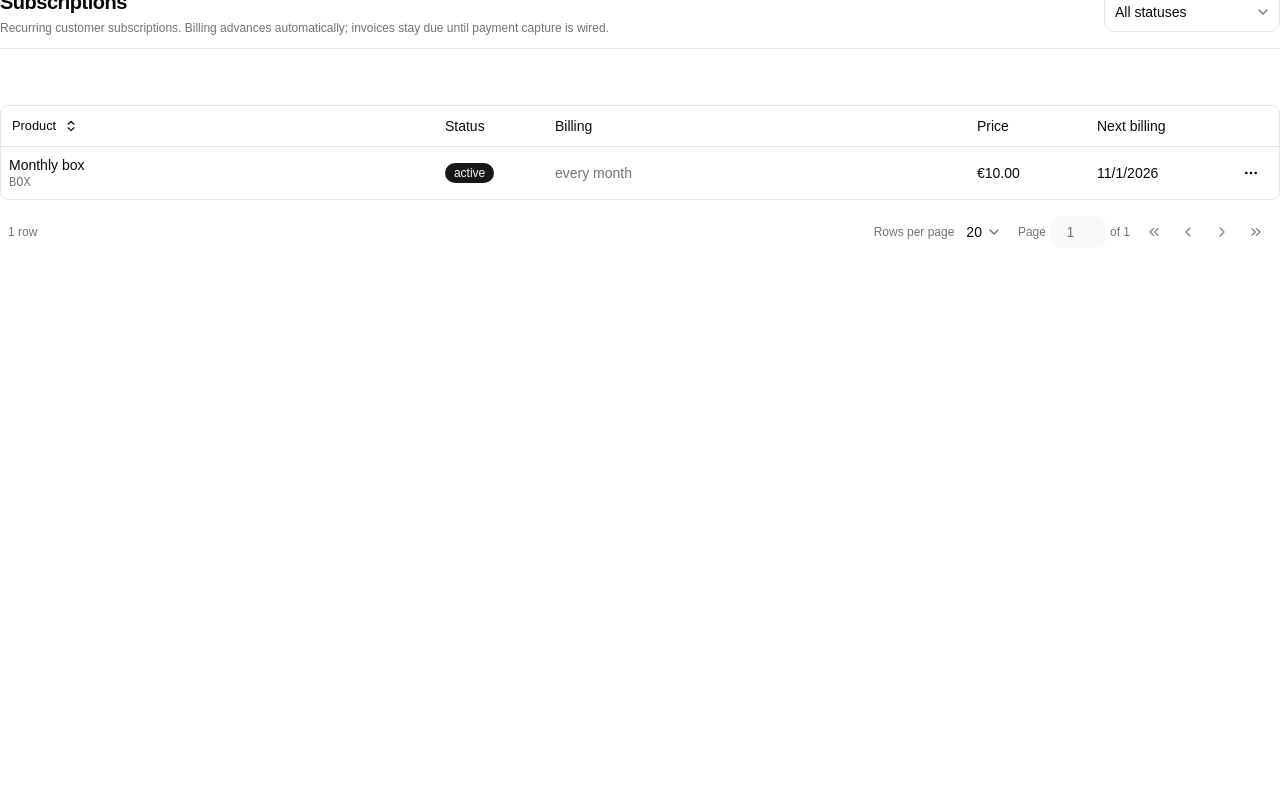
SubscriptionsList cancel › closes at once and reports a refused cancel on the page
Press the mouse on the button named "Subscription actions" at (1251, 172), box [1237,158,1265,186]
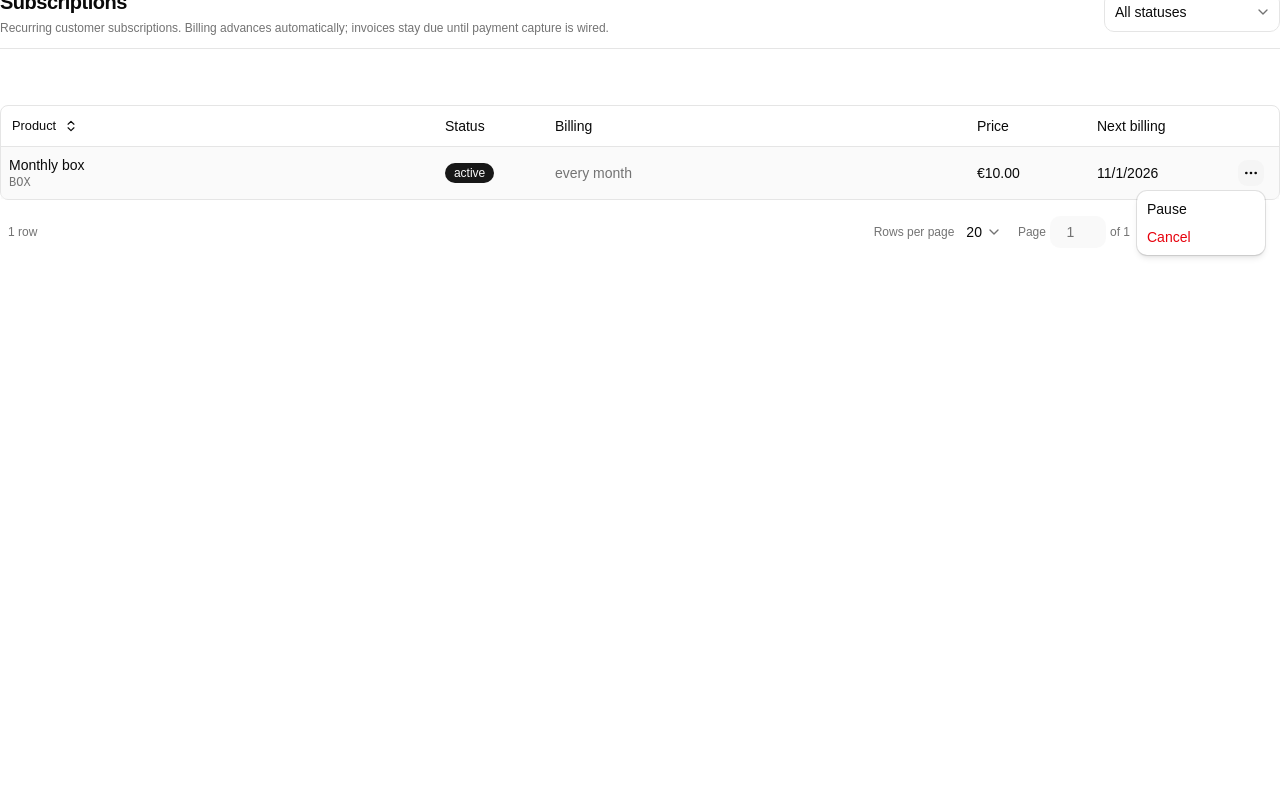
Click the menu item "Cancel" at (1169, 237), box [1147,229,1191,245]
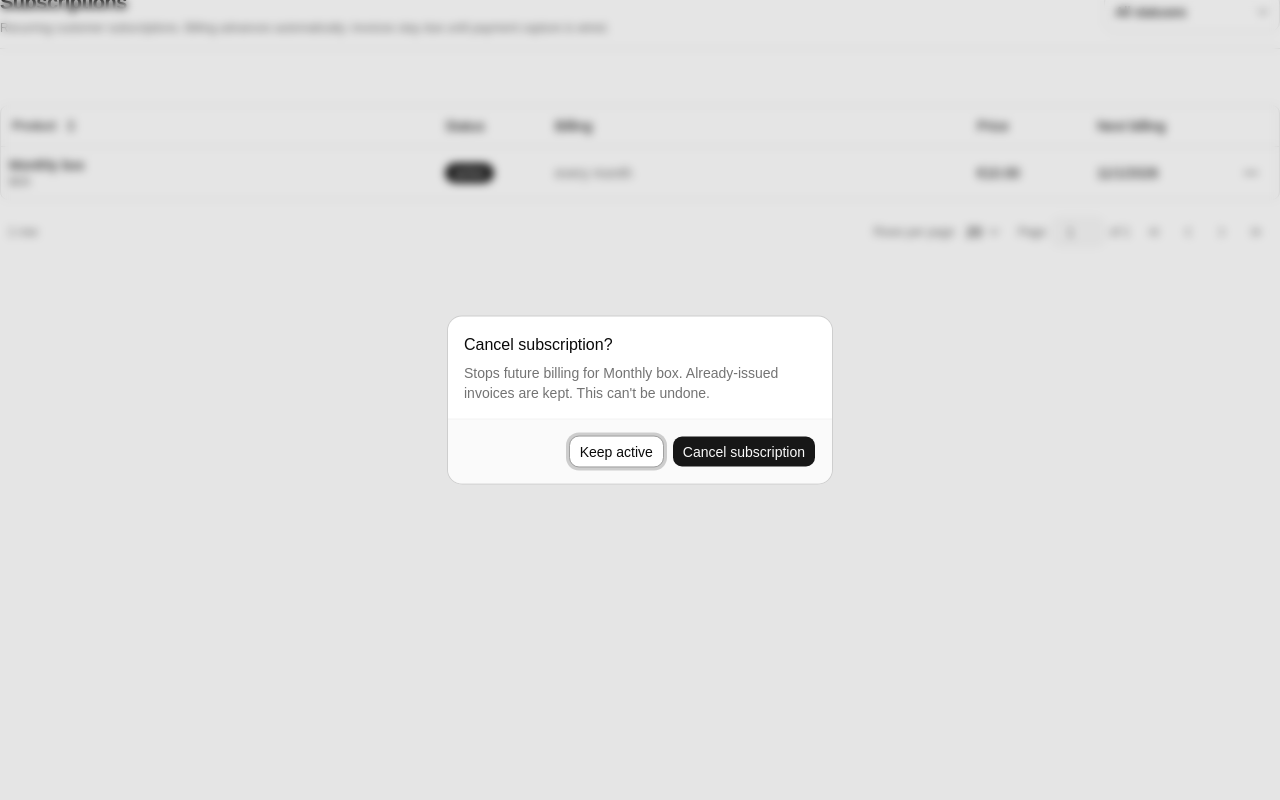
expect the button "Keep active" is shown: met, box [569,436,664,468]
Click the button "Cancel subscription" at (744, 452), box [672,436,816,468]
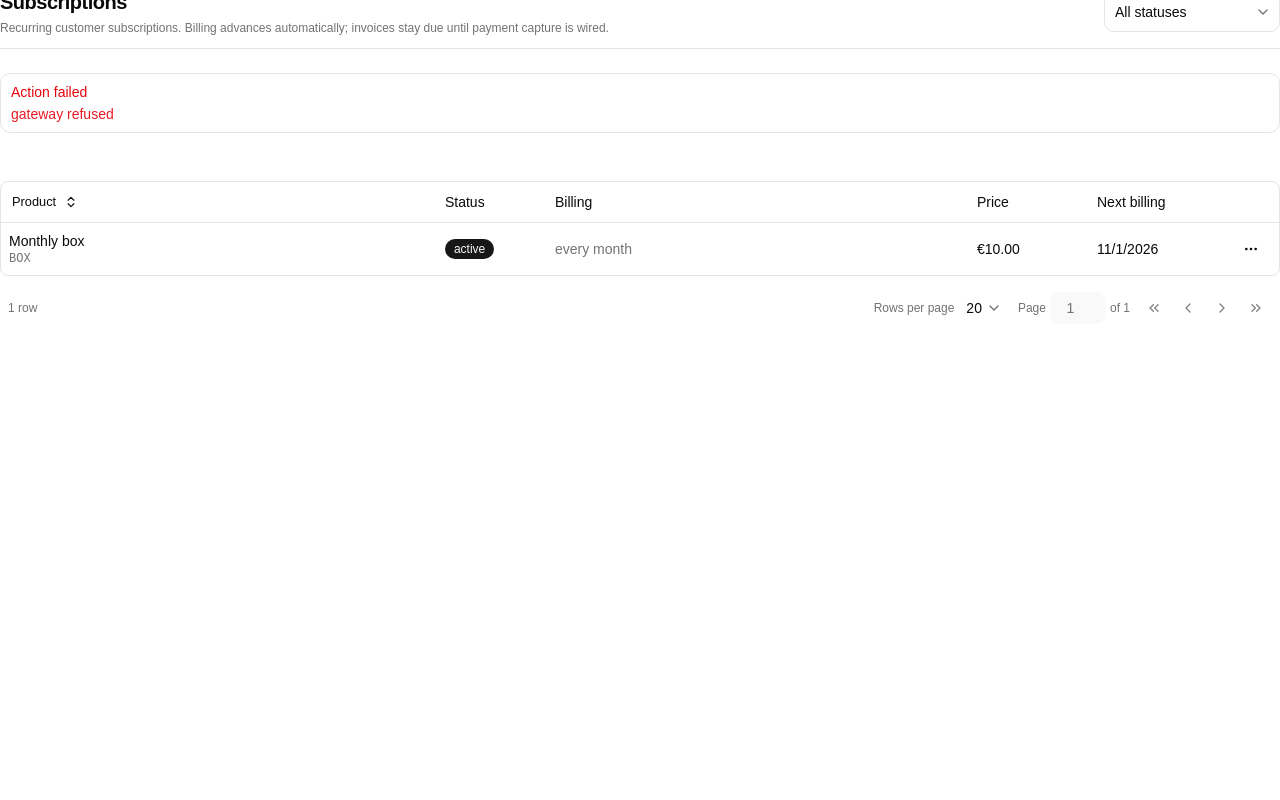
expect the dialog is gone: met
expect the text "gateway refused" is shown: met, box [11,106,114,122]
